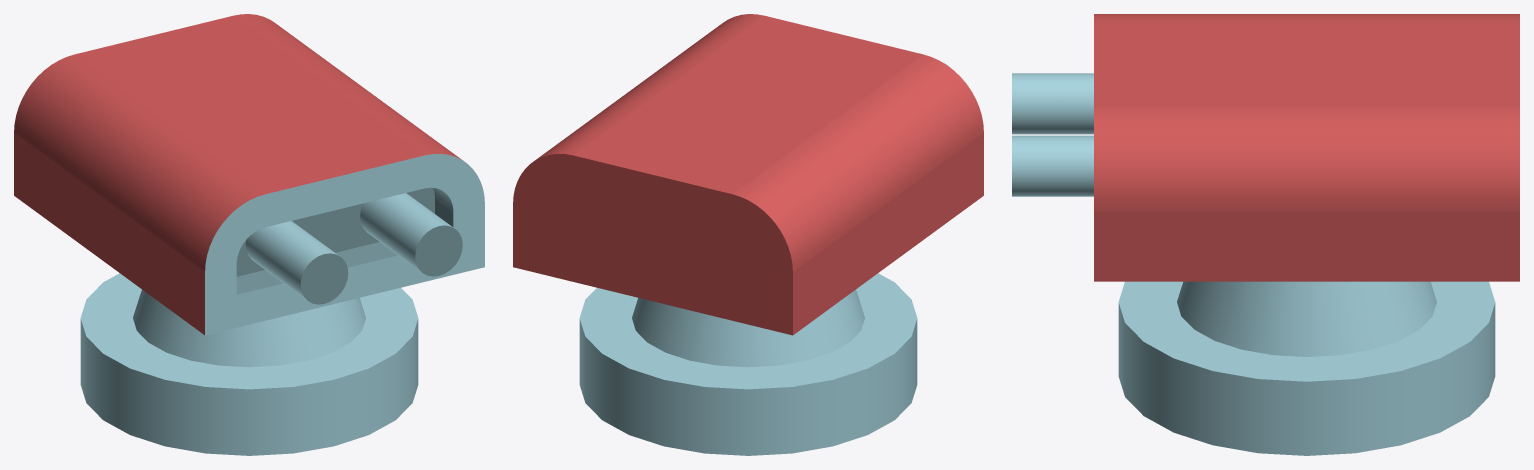
The model's file is weapon_blaster.fbx.
3 renders of one model, left to right at view 1: azimuth 30°, elevation 25°; view 2: azimuth 150°, elevation 25°; view 3: azimuth 270°, elevation 25°, orthographic. The views are drawn at different scales.
Parts seen in each view (by area): view 1: weapon_blaster; view 2: weapon_blaster; view 3: weapon_blaster.
Part boxes in pixels (x1,y1,x2,y2): weapon_blaster: (14, 14, 484, 455); weapon_blaster: (513, 14, 983, 455); weapon_blaster: (1012, 14, 1519, 455).
Bounding box in the file's own units: 4.6 × 4.2 × 6.2.
